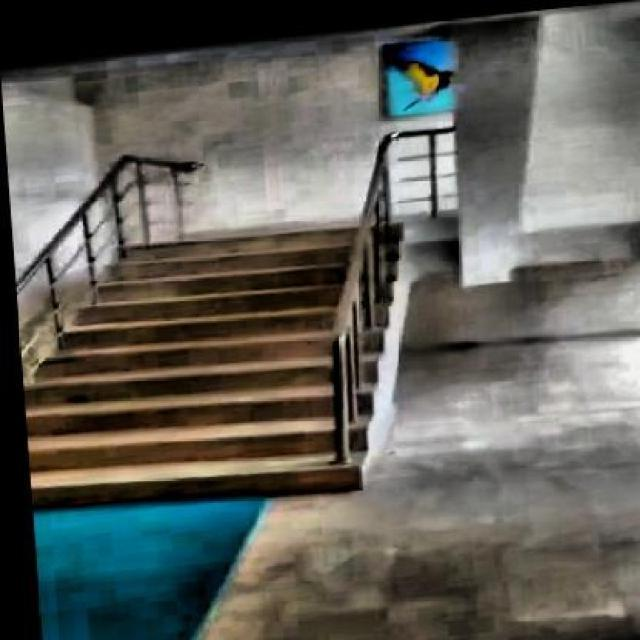stair: (12, 212, 426, 510)
